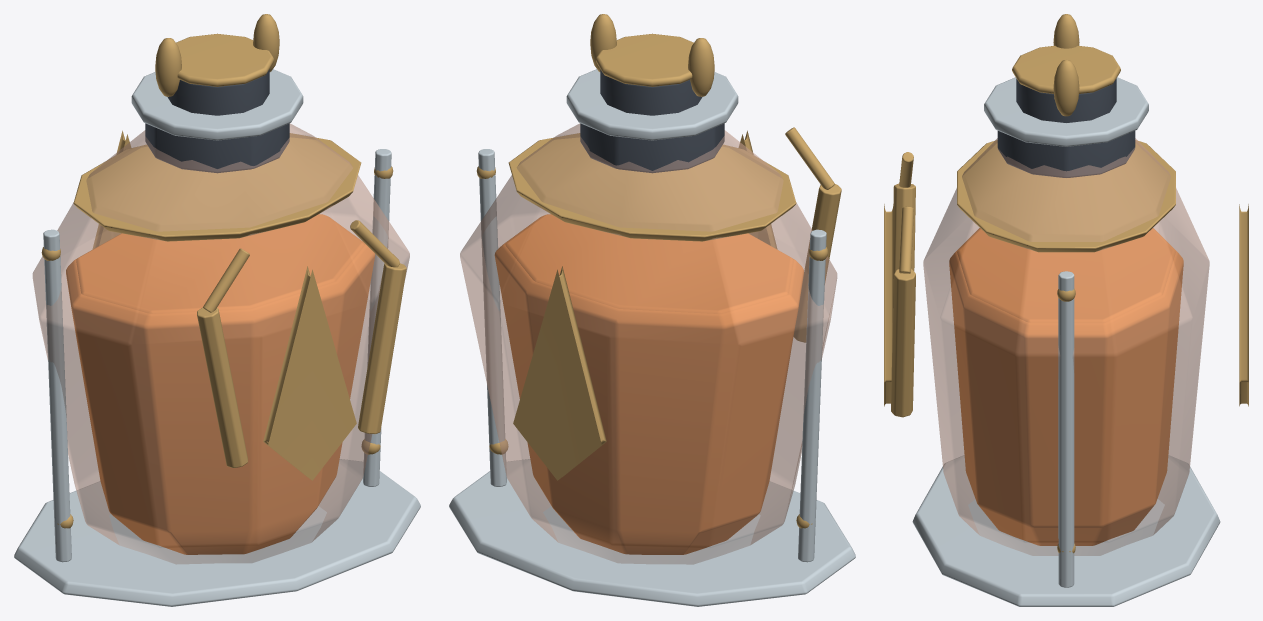
Rendered from SM_Flask_Fire.fbx.
The picture shows the model from 3 angles, left to right: view 1: azimuth 30°, elevation 25°; view 2: azimuth 150°, elevation 25°; view 3: azimuth 270°, elevation 25°; orthographic projection. The views are drawn at different scales.
Visible parts, largest first — view 1: glass_CutVessel, liquid_ContainedEssence, metal_BaseRing, gold_ShoulderRim, liquid_Meniscus, gold_FireCore_Front, metal_MouthLip, metal_CradleRail, dark_NeckSleeve, gold_CapInset, gold_FlameFork.001, gold_FlameFork (+6 smaller); view 2: glass_CutVessel, liquid_ContainedEssence, metal_BaseRing, gold_ShoulderRim, liquid_Meniscus, gold_FireCore_Back, metal_MouthLip, metal_CradleRail, metal_CradleRail.001, dark_NeckSleeve, gold_CapInset, dark_SealedStopper (+4 smaller); view 3: glass_CutVessel, liquid_ContainedEssence, metal_BaseRing, gold_ShoulderRim, liquid_Meniscus, metal_MouthLip, metal_CradleRail.001, dark_NeckSleeve, gold_CapInset, gold_FlameFork.001, dark_SealedStopper, gold_FireCore_Back (+5 smaller).
Part boxes in pixels (x1,y1,x2,y2): glass_CutVessel: [32, 123, 409, 564]; liquid_ContainedEssence: [66, 215, 375, 554]; metal_BaseRing: [14, 459, 420, 606]; gold_ShoulderRim: [73, 133, 361, 241]; liquid_Meniscus: [76, 214, 364, 313]; gold_FireCore_Front: [263, 266, 356, 480]; metal_MouthLip: [131, 69, 303, 140]; metal_CradleRail: [43, 229, 71, 562]; dark_NeckSleeve: [145, 123, 289, 173]; gold_CapInset: [176, 33, 273, 86]; gold_FlameFork.001: [358, 263, 406, 434]; gold_FlameFork: [197, 307, 247, 467]; glass_CutVessel: [460, 123, 837, 564]; liquid_ContainedEssence: [494, 215, 803, 554]; metal_BaseRing: [449, 459, 855, 606]; gold_ShoulderRim: [508, 133, 796, 241]; liquid_Meniscus: [505, 214, 793, 313]; gold_FireCore_Back: [513, 266, 606, 480]; metal_MouthLip: [566, 69, 738, 140]; metal_CradleRail: [798, 229, 826, 562]; metal_CradleRail.001: [478, 149, 506, 486]; dark_NeckSleeve: [580, 123, 724, 173]; gold_CapInset: [596, 33, 693, 86]; dark_SealedStopper: [600, 69, 702, 115]; glass_CutVessel: [923, 138, 1209, 555]; liquid_ContainedEssence: [949, 228, 1183, 545]; metal_BaseRing: [912, 455, 1220, 606]; gold_ShoulderRim: [957, 140, 1175, 252]; liquid_Meniscus: [957, 228, 1175, 322]; metal_MouthLip: [984, 77, 1148, 146]; metal_CradleRail.001: [1058, 271, 1074, 587]; dark_NeckSleeve: [997, 131, 1135, 177]; gold_CapInset: [1012, 45, 1120, 93]; gold_FlameFork.001: [891, 269, 915, 417]; dark_SealedStopper: [1016, 78, 1116, 122]; gold_FireCore_Back: [1239, 204, 1248, 406].
Bounding box in the file's own units: 38.09 × 52.6 × 35.
